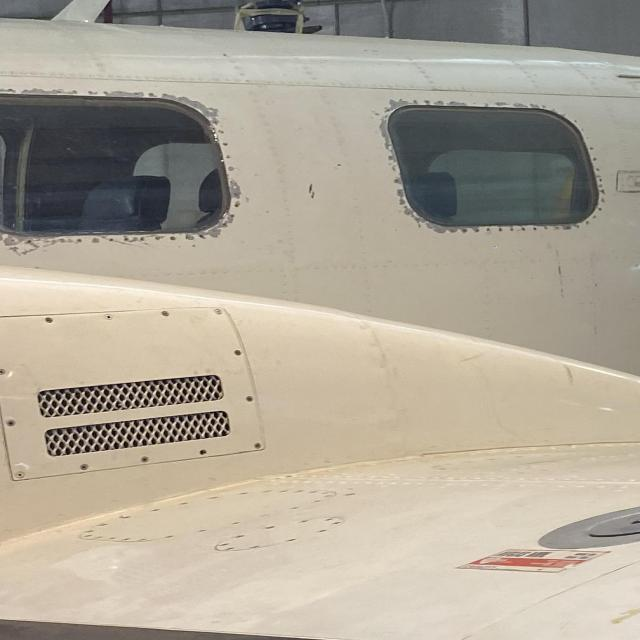Missing-head: (199, 450, 209, 456)
Paint-off: (157, 90, 219, 124), (5, 241, 42, 257), (226, 178, 241, 201), (101, 90, 145, 97), (432, 225, 459, 233), (492, 99, 511, 108)
